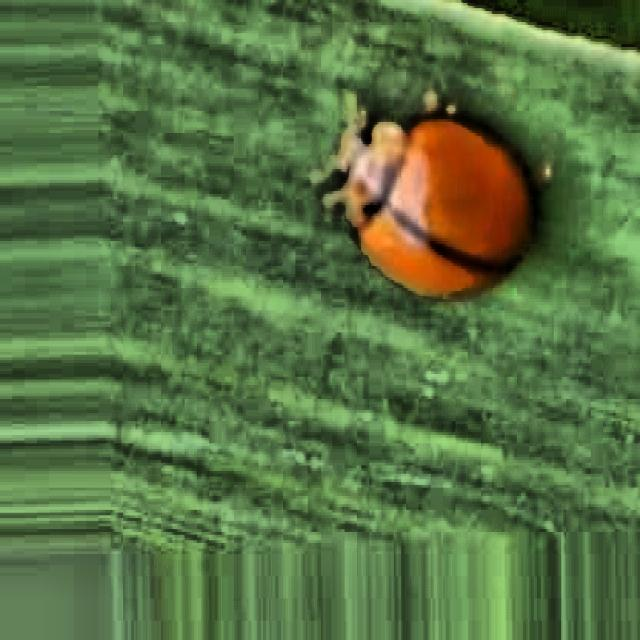Ladybug: (306, 54, 566, 335)
